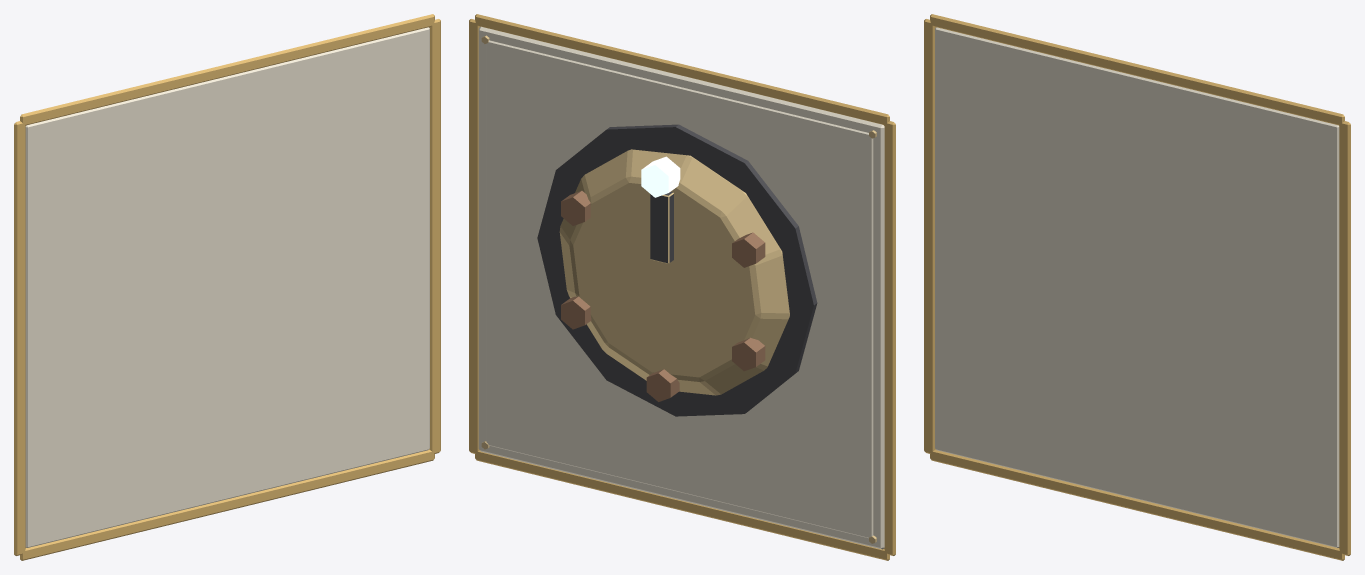
Rendered from Ctl_Dial_2x2.fbx.
The picture shows the model from 3 angles, left to right: view 1: azimuth 30°, elevation 25°; view 2: azimuth 150°, elevation 25°; view 3: azimuth 330°, elevation 25°; orthographic projection.
Parts seen in each view (by area): view 1: Ctl_Dial_2x2, Ctl_Dial_2x2_Frame; view 2: Ctl_Dial_2x2, Moving.007, Ctl_Dial_2x2_Frame; view 3: Ctl_Dial_2x2, Ctl_Dial_2x2_Frame.
Boxes of the visible parts, x1,y1,x2,y2 form: Ctl_Dial_2x2: (25, 27, 429, 547); Ctl_Dial_2x2_Frame: (14, 14, 440, 560); Ctl_Dial_2x2: (478, 26, 884, 549); Moving.007: (559, 149, 789, 401); Ctl_Dial_2x2_Frame: (469, 14, 895, 560); Ctl_Dial_2x2: (935, 27, 1339, 547); Ctl_Dial_2x2_Frame: (924, 14, 1350, 560).
Size of the model in its own units: 2.16 by 2.16 by 0.25.
